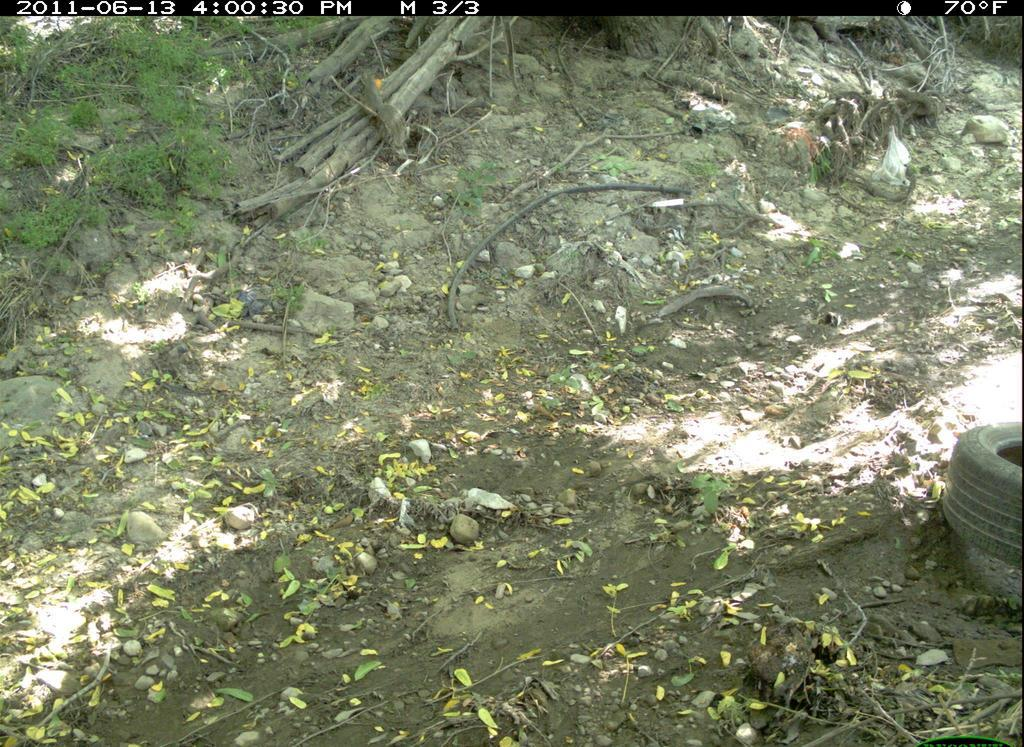squirrel: (351, 65, 409, 150)
